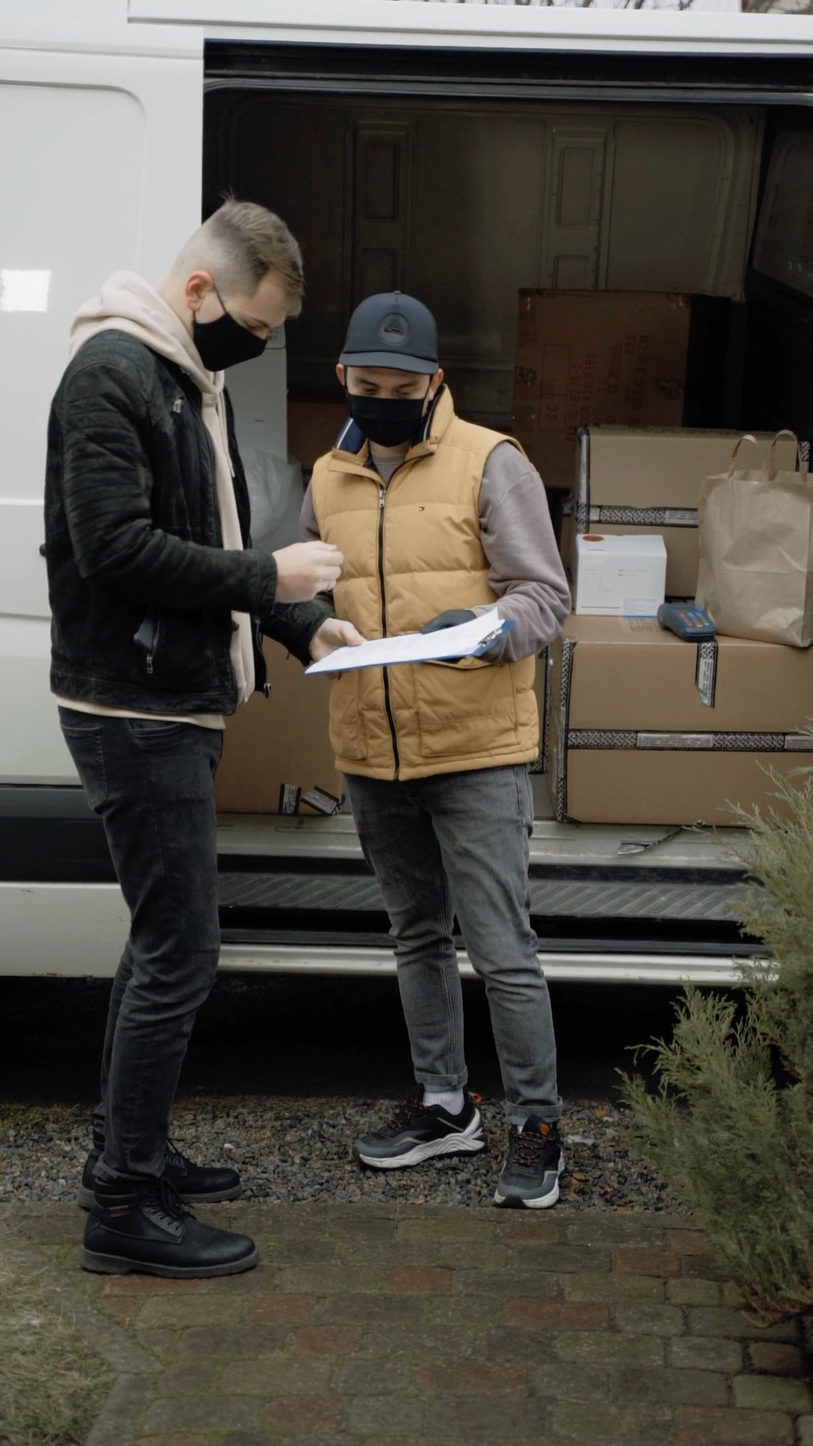No-gloves: (266, 507, 360, 622), (312, 605, 369, 705)
gloves: (418, 598, 509, 665)
